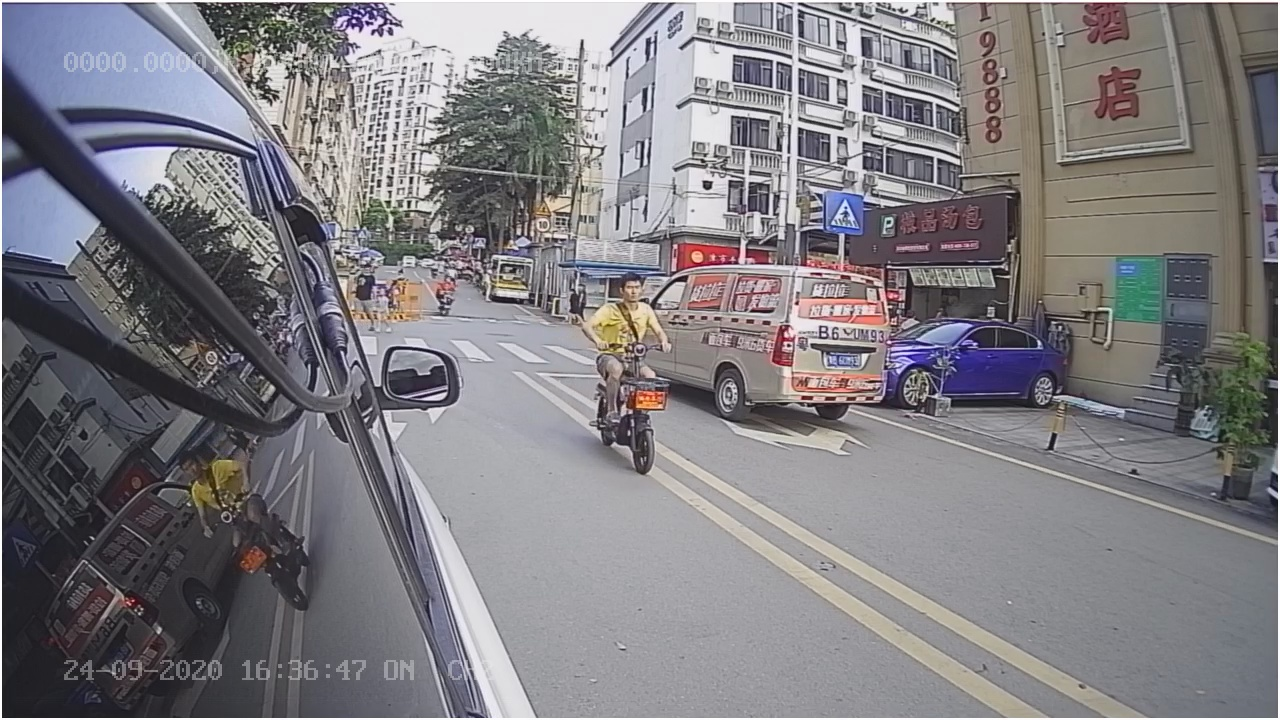person: (567, 272, 673, 473)
